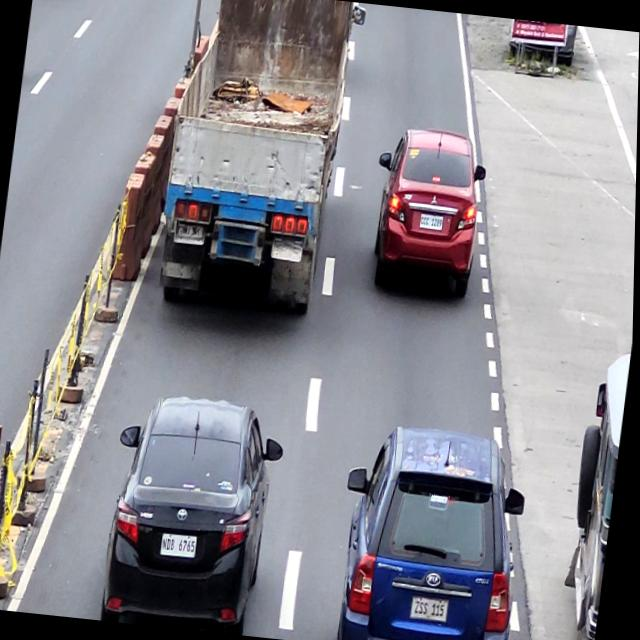Car: (98, 391, 291, 637), (330, 420, 536, 640), (363, 127, 491, 300)
Jeep: (557, 343, 632, 640)
License-Plate: (413, 596, 451, 624), (161, 532, 200, 557), (177, 221, 206, 241), (419, 212, 444, 229)
Truck: (152, 0, 367, 314)
